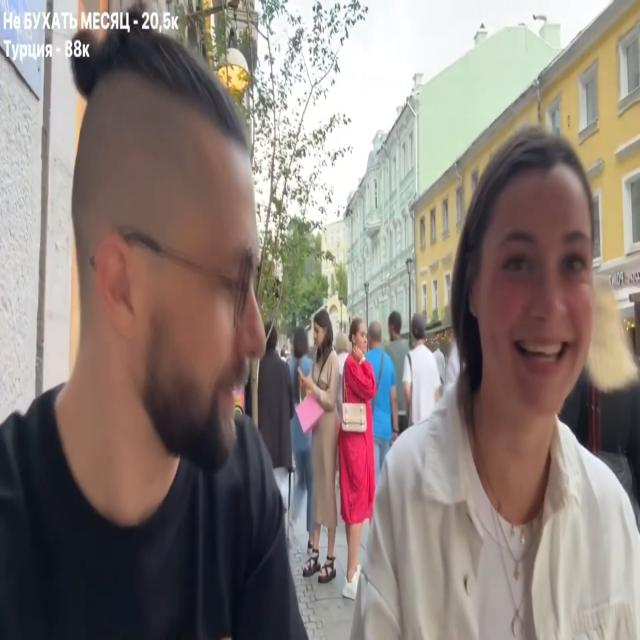Person: (13, 10, 314, 640), (369, 130, 640, 635), (402, 316, 443, 432)
